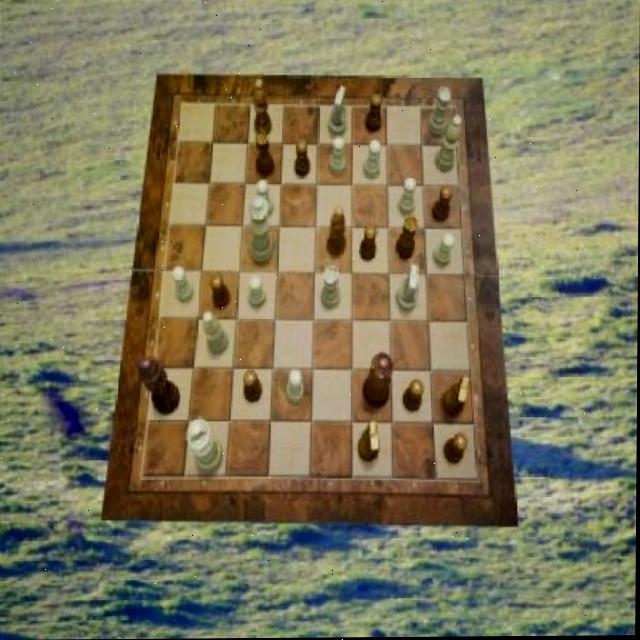bishop: (327, 207, 348, 258), (254, 78, 272, 137)
black-bishop: (138, 356, 181, 414)
black-king: (444, 377, 472, 417), (359, 421, 381, 463)
black-knight: (433, 187, 453, 223), (445, 434, 468, 465), (212, 274, 232, 309), (404, 380, 425, 413), (361, 226, 379, 262), (244, 369, 263, 403), (294, 140, 311, 178), (365, 95, 382, 133)
black-pawn: (364, 353, 395, 409)
black-queen: (397, 214, 419, 260), (256, 131, 276, 178)
black-rook: (436, 116, 462, 174), (204, 313, 229, 357)
white-bishop: (187, 419, 223, 475)
white-king: (396, 265, 419, 313), (330, 85, 348, 137)
white-knight: (174, 267, 195, 303), (434, 234, 455, 268), (257, 180, 275, 219), (399, 177, 417, 216), (365, 141, 382, 180), (330, 136, 346, 177), (287, 369, 305, 404), (249, 277, 267, 309)
white-pawn: (251, 197, 276, 263)
white-queen: (429, 88, 452, 138), (323, 266, 342, 310)
